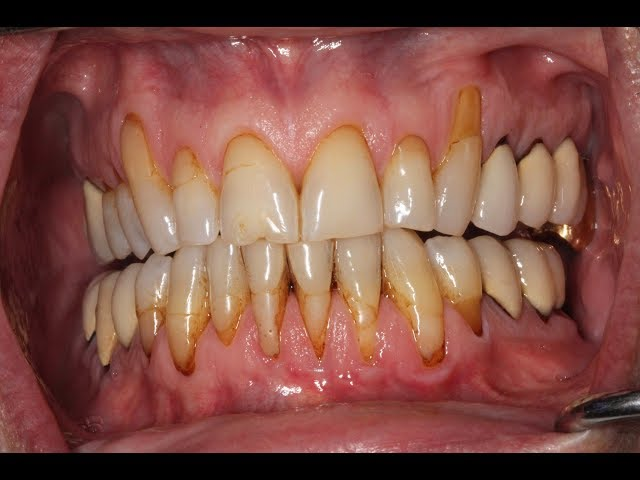LL1BC_decay: (425, 235, 485, 337)
LL1M_decay: (508, 235, 555, 323)
LL2BC_decay: (472, 235, 524, 323)
LL2M_decay: (545, 246, 567, 315)
LLCI_decay: (286, 242, 335, 356)
LLC_decay: (385, 231, 444, 365)
LLLI_decay: (336, 237, 382, 360)
LR1BC_decay: (135, 257, 166, 357)
LR1M_decay: (96, 273, 115, 375)
LR2BC_healthy: (112, 263, 135, 344)
LR2M_decay: (81, 271, 98, 345)
LRCI_decay: (241, 242, 289, 357)
LRC_decay: (165, 254, 205, 376)
LRLI_decay: (204, 243, 245, 343)
UL1BC_decay: (480, 135, 518, 235)
UL1M_healthy: (556, 141, 579, 226)
UL2BC_decay: (518, 137, 555, 231)
ULCI_decay: (301, 123, 384, 238)
ULC_decay: (439, 88, 480, 236)
ULLI_decay: (387, 134, 436, 231)
UR1BC_decay: (115, 184, 150, 258)
UR1M_healthy: (84, 180, 105, 260)
UR2BC_healthy: (102, 194, 124, 259)
URCI_decay: (221, 134, 298, 243)
URC_decay: (122, 115, 174, 254)
URLI_decay: (172, 147, 219, 244)
